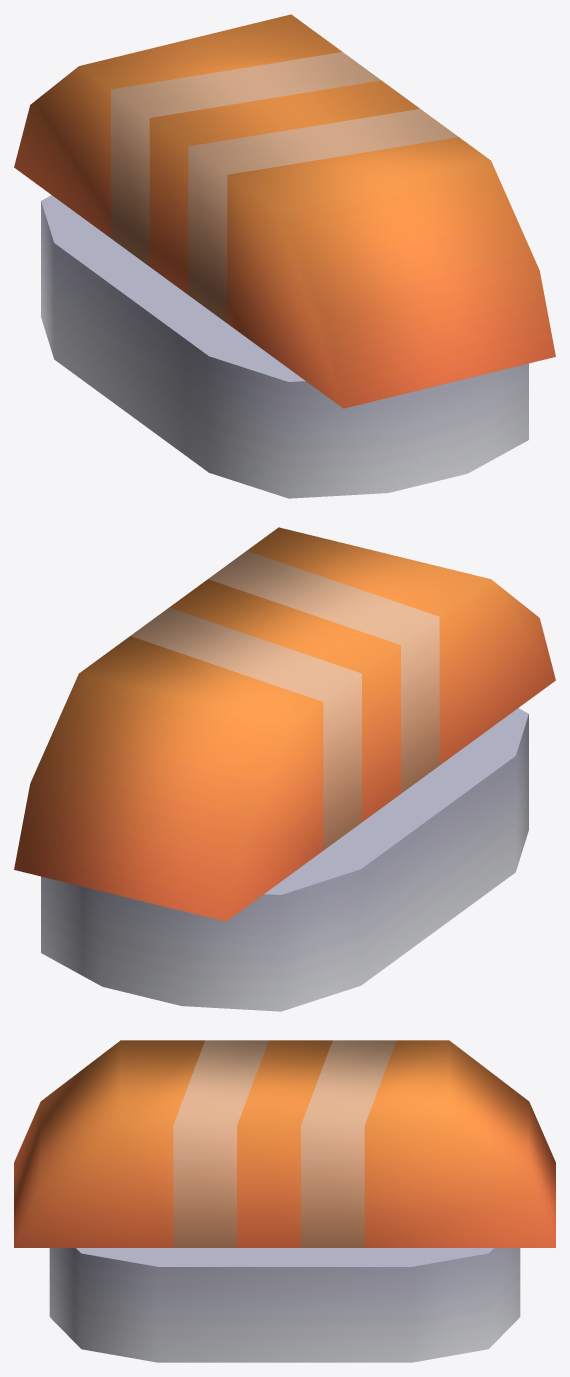
Rendered from food.sushi_salmon.glb.
3 views of the same model, one above another, from view 1: azimuth 30°, elevation 25°; view 2: azimuth 150°, elevation 25°; view 3: azimuth 270°, elevation 25° (orthographic). The views are drawn at different scales.
Parts seen in each view (by area): view 1: sushi-salmon; view 2: sushi-salmon; view 3: sushi-salmon.
Boxes of the visible parts, x1,y1,x2,y2 form: sushi-salmon: [14, 14, 555, 498]; sushi-salmon: [14, 527, 555, 1011]; sushi-salmon: [14, 1040, 555, 1362].
Bounding box in the file's own units: 0.0321 × 0.0265 × 0.0596.
1 material, 1 textured.
